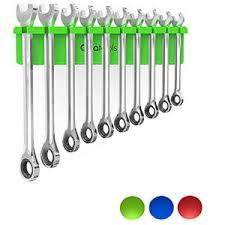wrench: (14, 0, 39, 182), (38, 0, 60, 168), (60, 1, 80, 152), (95, 3, 114, 137), (78, 3, 96, 143), (111, 5, 130, 132), (127, 6, 145, 126), (142, 7, 160, 118), (155, 8, 173, 113), (169, 11, 184, 105)
